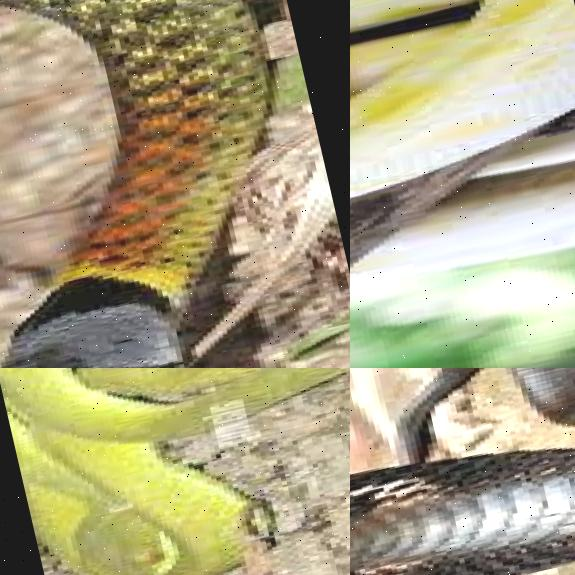1: (350, 368, 575, 575)
2: (0, 0, 350, 368)
4: (0, 368, 350, 575)
snake: (350, 0, 575, 269)
